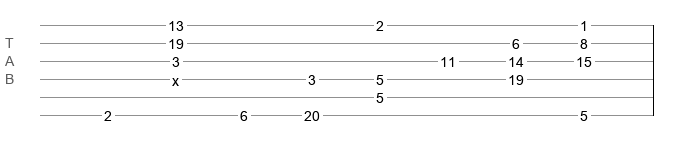1: (580, 18, 588, 28)
11: (440, 54, 456, 64)
13: (168, 18, 184, 28)
14: (508, 54, 524, 64)
15: (576, 54, 592, 64)
19: (168, 36, 184, 46), (508, 72, 524, 82)
2: (104, 108, 112, 118), (376, 18, 384, 28)
20: (304, 108, 320, 118)
3: (172, 54, 180, 64), (308, 72, 316, 82)
5: (376, 90, 384, 100), (376, 72, 384, 82), (580, 108, 588, 118)
6: (240, 108, 248, 118), (512, 36, 520, 46)
8: (580, 36, 588, 46)
x: (172, 73, 179, 81)
